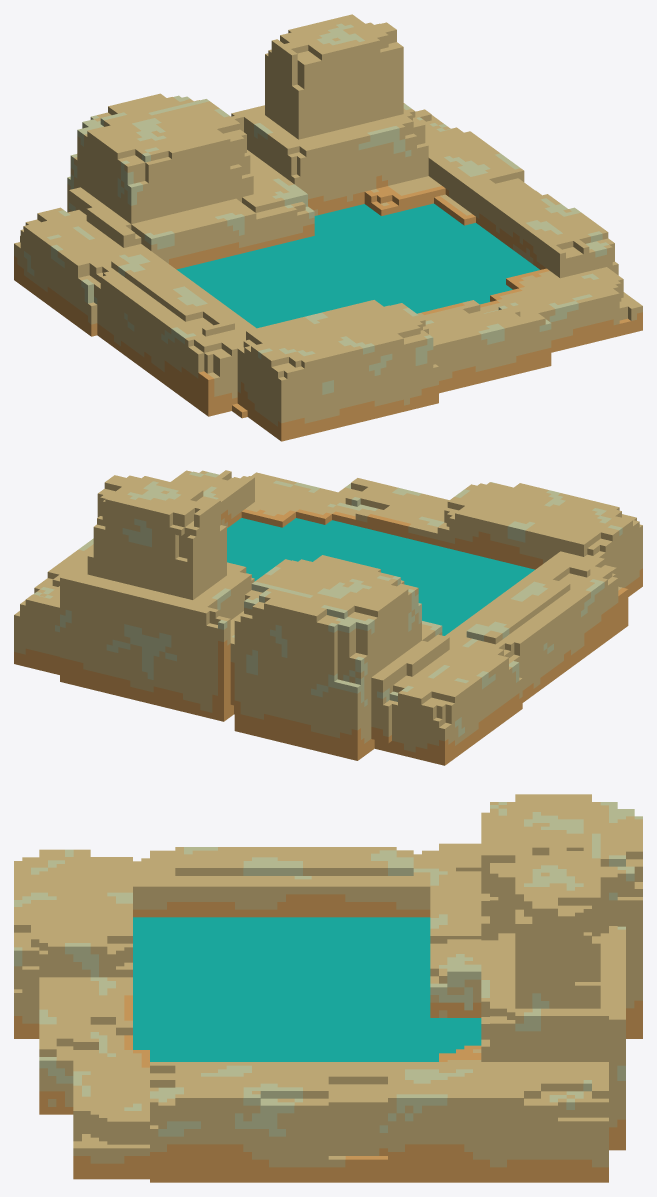
File: Mini-Oasis-Del-Desierto-7.obj
3 renders of one model, top to bottom at view 1: azimuth 30°, elevation 25°; view 2: azimuth 150°, elevation 25°; view 3: azimuth 270°, elevation 25°, orthographic. The views are drawn at different scales.
Bounding box in the file's own units: 7.3 × 3 × 7.4.
Materials: 1 (1 with a texture image).
